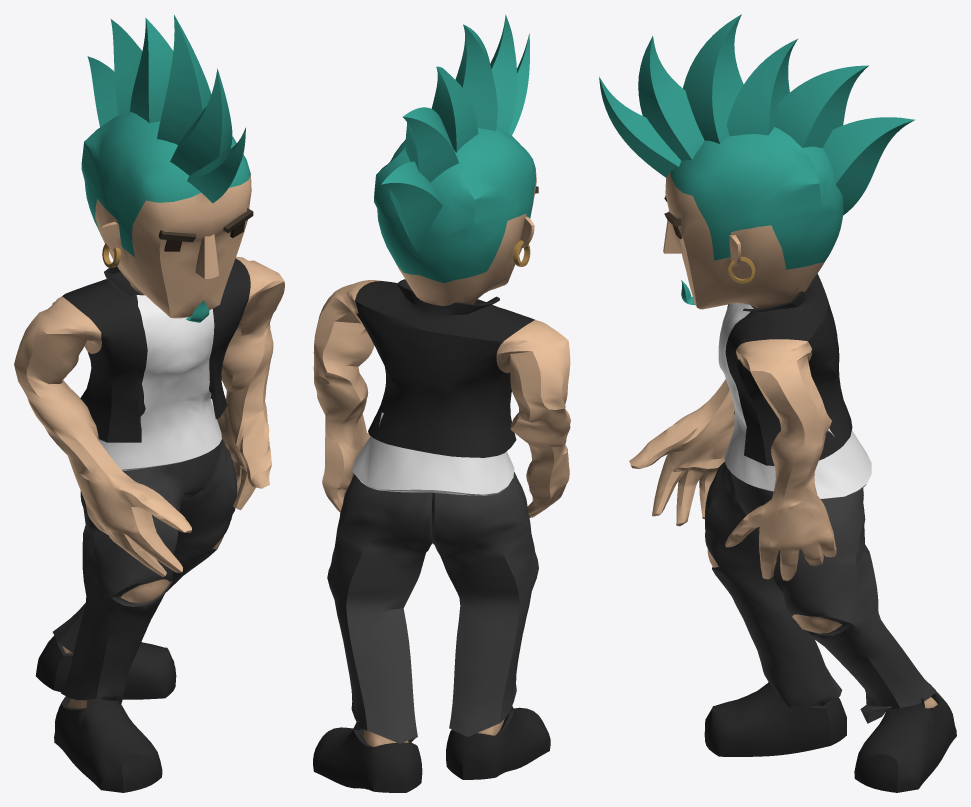
Rendered from av-skatista-praca.glb.
3 renders of one model, left to right at view 1: azimuth 30°, elevation 25°; view 2: azimuth 150°, elevation 25°; view 3: azimuth 270°, elevation 25°, orthographic. The views are drawn at different scales.
Parts seen in each view (by area): view 1: Punk_Body; view 2: Punk_Body; view 3: Punk_Body.
Boxes of the visible parts, x1=… form: Punk_Body: x1=14, y1=15, x2=284, y2=792; Punk_Body: x1=313, y1=14, x2=570, y2=792; Punk_Body: x1=599, y1=14, x2=956, y2=792.
Bounding box in the file's own units: 0.5646 × 1.56 × 0.6691.
Materials: 1 (1 with a texture image).
